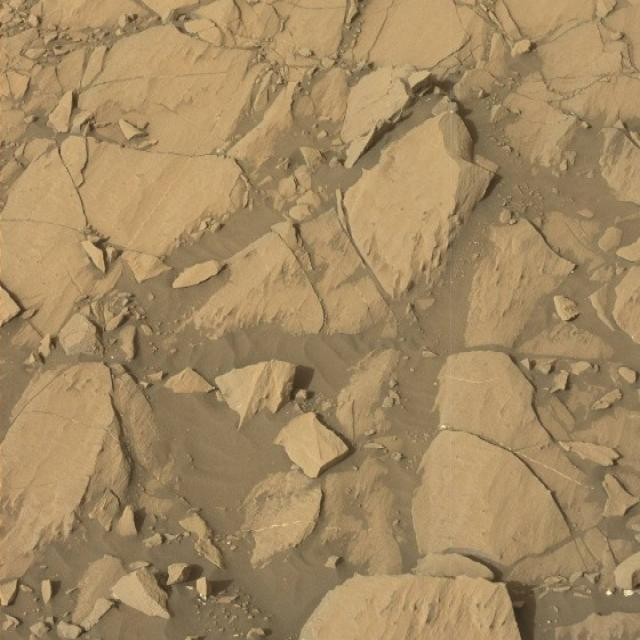rock: (294, 572, 538, 640)
